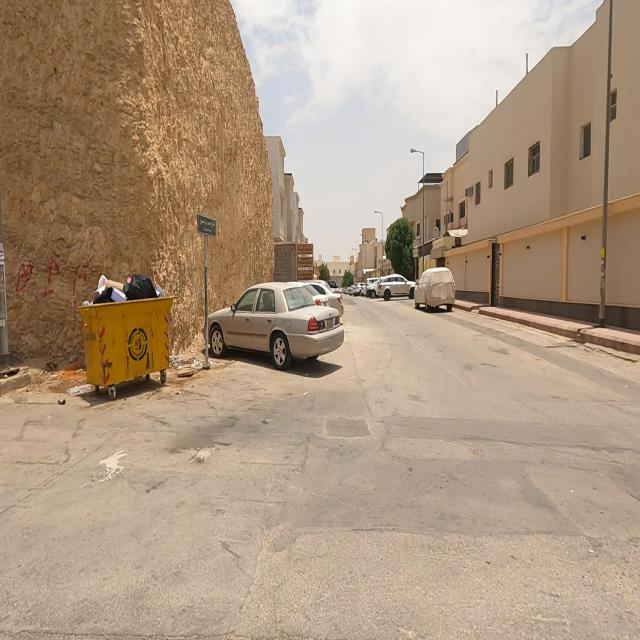Graffiti: (45, 261, 63, 299), (18, 263, 34, 297), (72, 269, 91, 295)
